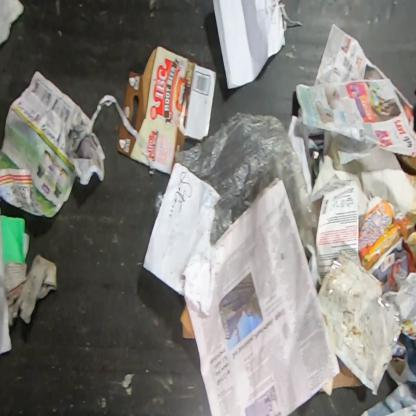cardboard: (123, 44, 217, 175), (116, 120, 150, 168), (331, 355, 366, 389), (178, 303, 197, 340)
soft_plastic: (175, 111, 319, 247), (153, 191, 166, 219)
